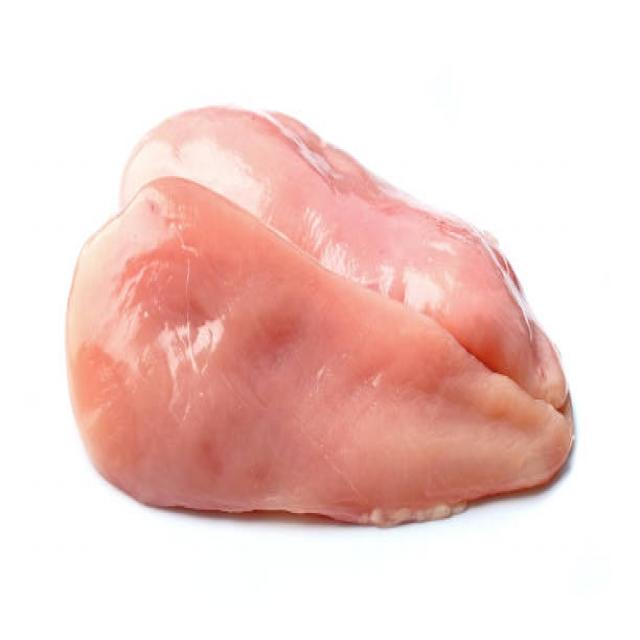chicken breast: (72, 45, 552, 531)
